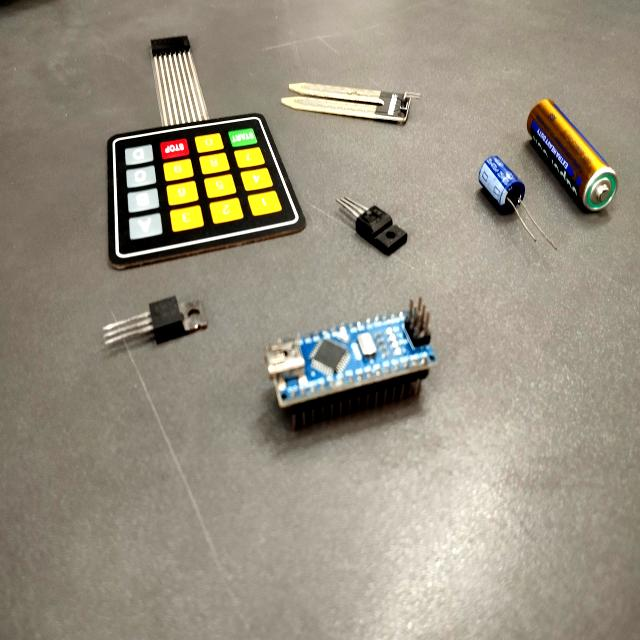capacitor: (480, 159, 514, 201)
